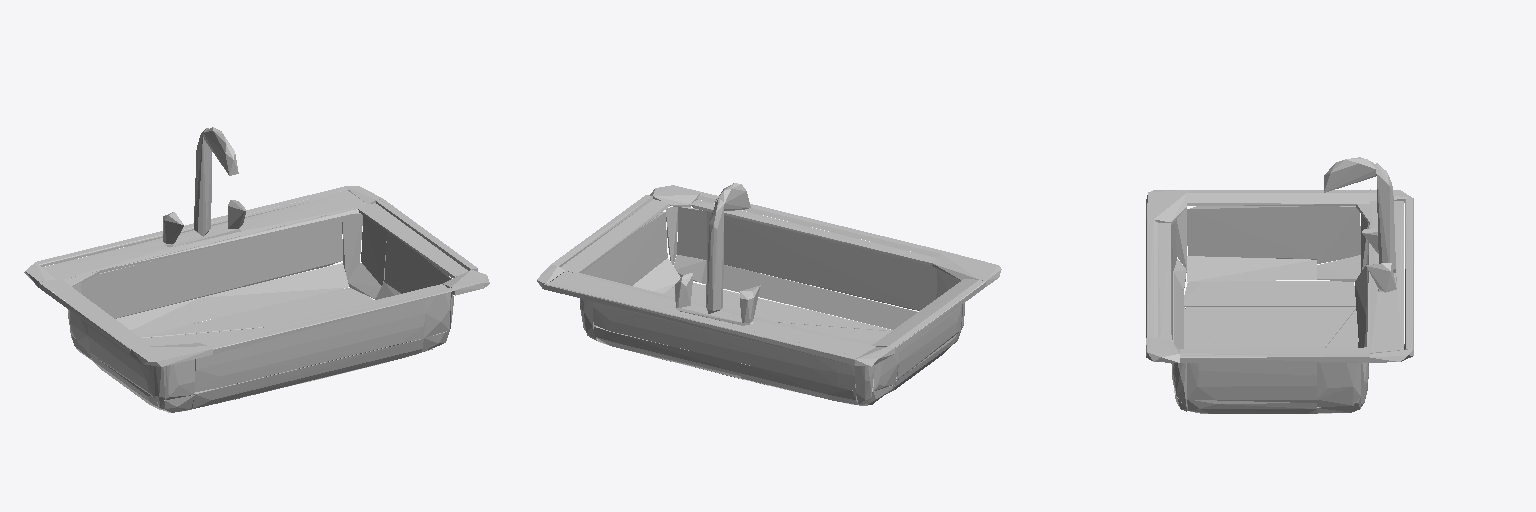
Rendered from sink_vhacd.obj.
3 views of the same model, side by side, from view 1: azimuth 30°, elevation 25°; view 2: azimuth 150°, elevation 25°; view 3: azimuth 270°, elevation 25° (orthographic).
Parts seen in each view (by area): view 1: convex_31, convex_48, convex_20, convex_32, convex_47, convex_13, convex_38, convex_24, convex_35, convex_18, convex_30, convex_23 (+18 smaller); view 2: convex_48, convex_31, convex_47, convex_20, convex_38, convex_27, convex_39, convex_32, convex_24, convex_40, convex_9, convex_30 (+19 smaller); view 3: convex_35, convex_49, convex_38, convex_4, convex_20, convex_36, convex_23, convex_42, convex_45, convex_25, convex_39, convex_37 (+14 smaller).
Part boxes in pixels (left/top/right/bottom): convex_31: left=81, top=217, right=342, bottom=318; convex_48: left=195, top=299, right=424, bottom=391; convex_20: left=42, top=192, right=367, bottom=279; convex_32: left=198, top=263, right=348, bottom=320; convex_47: left=191, top=339, right=423, bottom=408; convex_13: left=140, top=288, right=373, bottom=337; convex_38: left=384, top=232, right=450, bottom=293; convex_24: left=358, top=203, right=467, bottom=277; convex_35: left=88, top=324, right=154, bottom=397; convex_18: left=37, top=187, right=348, bottom=266; convex_30: left=116, top=299, right=201, bottom=336; convex_23: left=40, top=280, right=150, bottom=348; convex_48: left=707, top=212, right=936, bottom=310; convex_31: left=593, top=302, right=855, bottom=390; convex_47: left=701, top=260, right=917, bottom=329; convex_20: left=551, top=271, right=875, bottom=356; convex_38: left=600, top=212, right=667, bottom=285; convex_27: left=663, top=283, right=892, bottom=330; convex_39: left=690, top=200, right=936, bottom=265; convex_32: left=594, top=327, right=741, bottom=378; convex_24: left=560, top=199, right=669, bottom=273; convex_40: left=697, top=192, right=944, bottom=257; convex_9: left=543, top=284, right=854, bottom=364; convex_30: left=739, top=363, right=858, bottom=404; convex_35: left=1187, top=206, right=1316, bottom=259; convex_49: left=1184, top=281, right=1355, bottom=348; convex_38: left=1187, top=363, right=1316, bottom=402; convex_4: left=1184, top=281, right=1355, bottom=306; convex_20: left=1370, top=201, right=1403, bottom=352; convex_36: left=1187, top=256, right=1316, bottom=281; convex_23: left=1187, top=190, right=1369, bottom=205; convex_42: left=1317, top=206, right=1360, bottom=263; convex_45: left=1317, top=363, right=1360, bottom=406; convex_25: left=1180, top=354, right=1369, bottom=362; convex_39: left=1158, top=223, right=1171, bottom=340; convex_37: left=1187, top=400, right=1316, bottom=413.
Bounding box in the file's own units: 0.8305 × 0.4479 × 0.5606.